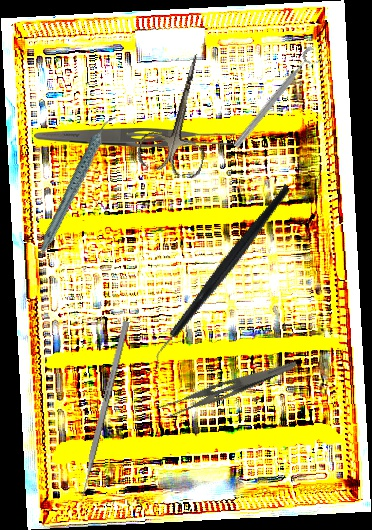Chopper: (109, 181, 337, 375)
Dressing Forceps: (156, 346, 298, 427), (34, 128, 236, 149)
Fixation Ring: (230, 45, 325, 155)
Handpiece: (14, 113, 142, 254)
Iris Scissors: (134, 45, 230, 181)
Pusher: (76, 320, 130, 509)
